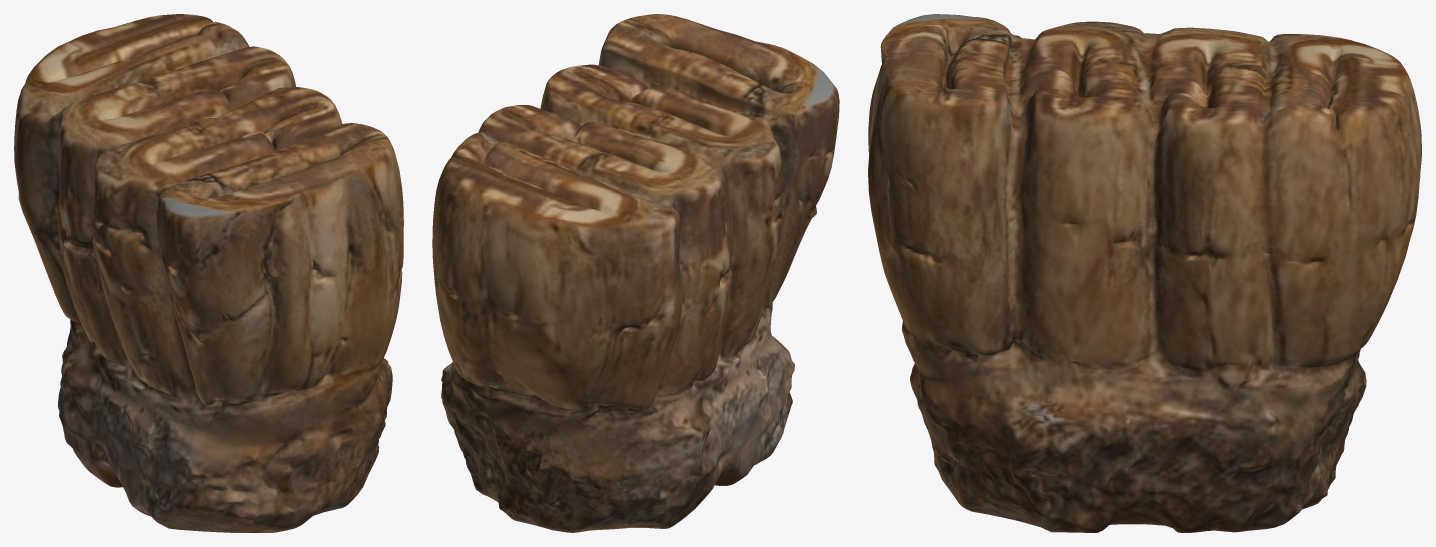
The model's file is mammoth.glb.
3 renders of one model, left to right at view 1: azimuth 30°, elevation 25°; view 2: azimuth 150°, elevation 25°; view 3: azimuth 270°, elevation 25°, orthographic. The views are drawn at different scales.
Parts seen in each view (by area): view 1: tripo_node_55921d4e-6065-41da-8242-6b23bb8e3527; view 2: tripo_node_55921d4e-6065-41da-8242-6b23bb8e3527; view 3: tripo_node_55921d4e-6065-41da-8242-6b23bb8e3527.
Boxes of the visible parts, x1,y1,x2,y2 form: tripo_node_55921d4e-6065-41da-8242-6b23bb8e3527: (14, 14, 403, 532); tripo_node_55921d4e-6065-41da-8242-6b23bb8e3527: (432, 14, 839, 532); tripo_node_55921d4e-6065-41da-8242-6b23bb8e3527: (868, 14, 1421, 532).
Bounding box in the file's own units: 0.131 × 0.1757 × 0.2.
1 material, 1 textured.
